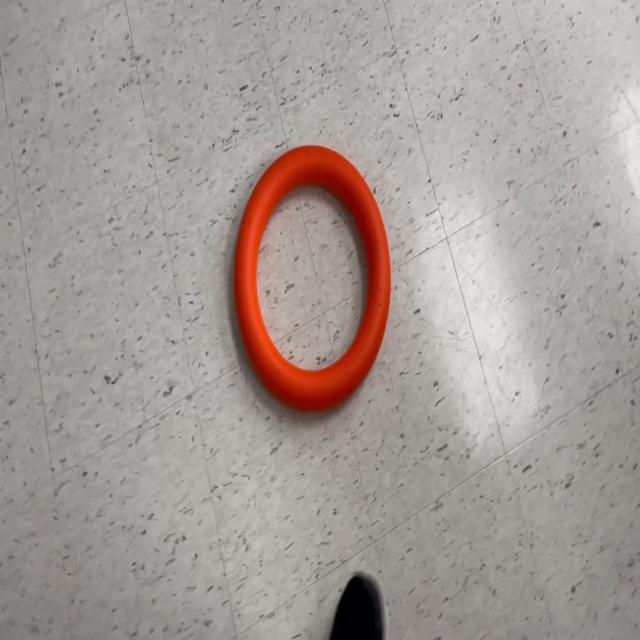note: (231, 145, 393, 419)
